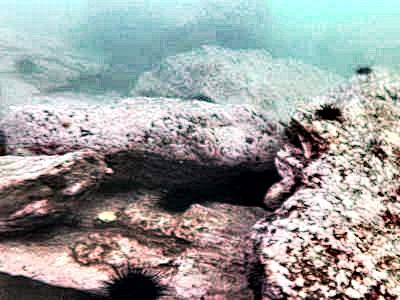urchin: (97, 260, 165, 295), (156, 181, 198, 214), (319, 100, 343, 118)
